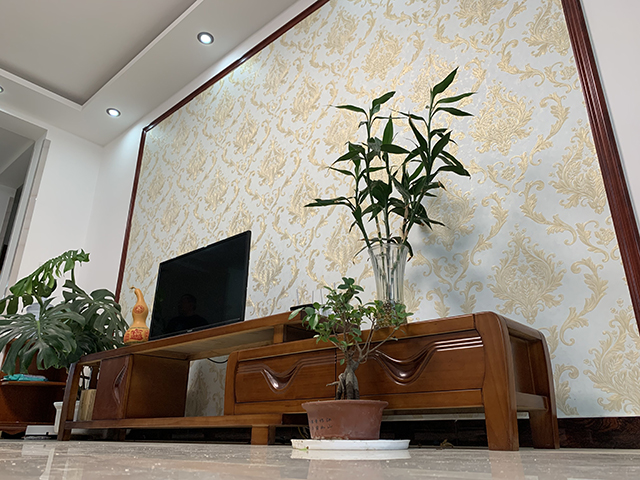cabinet: (54, 309, 563, 452)
